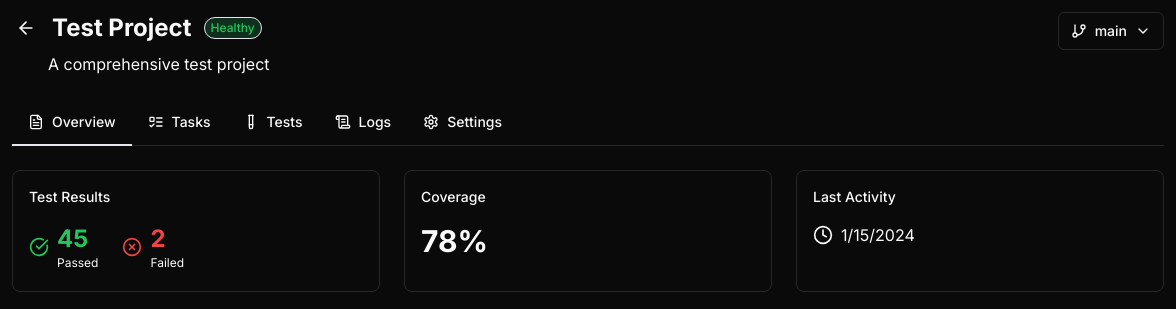
Test case: ProjectDetail › switches to tests tab
Click the tab "Tests": (272, 123) [226,100,318,146]
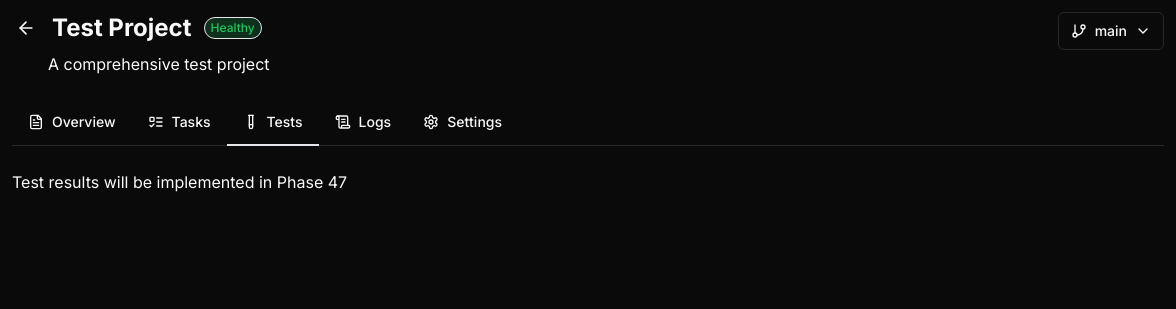
Expected: the panel with test id "tests-panel" is shown, [12,172,347,192]
